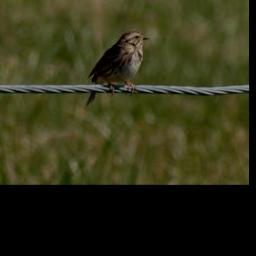Sparrow: (85, 29, 154, 108)
